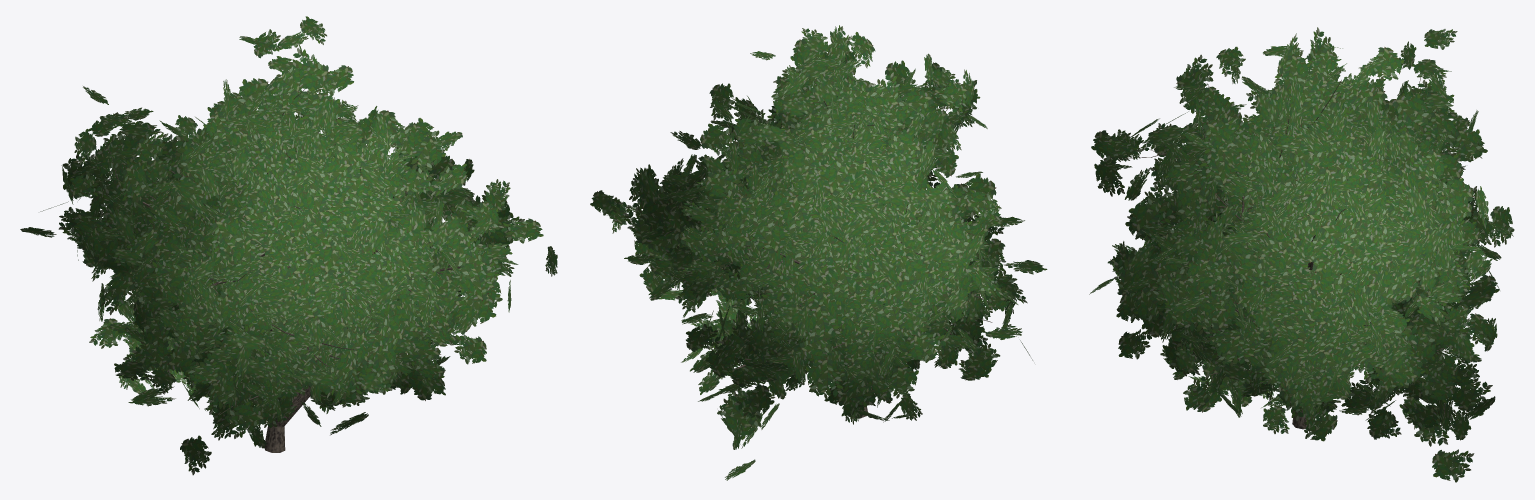
The model's file is HO4_HolmOak_MultiStem_5m.glb.
3 renders of one model, left to right at view 1: azimuth 30°, elevation 25°; view 2: azimuth 150°, elevation 25°; view 3: azimuth 270°, elevation 25°, orthographic. The views are drawn at different scales.
Parts seen in each view (by area): view 1: HO4_leaves, HO4_wood; view 2: HO4_leaves, HO4_wood; view 3: HO4_leaves, HO4_wood.
Part boxes in pixels (x1,y1,x2,y2): HO4_leaves: (20,16,557,475); HO4_wood: (83,87,475,452); HO4_leaves: (590,25,1047,480); HO4_wood: (640,54,992,418); HO4_leaves: (1089,27,1514,482); HO4_wood: (1124,77,1448,429).
Size of the model in its own units: 5.74 by 5.36 by 4.83.
2 materials, 2 textured.
